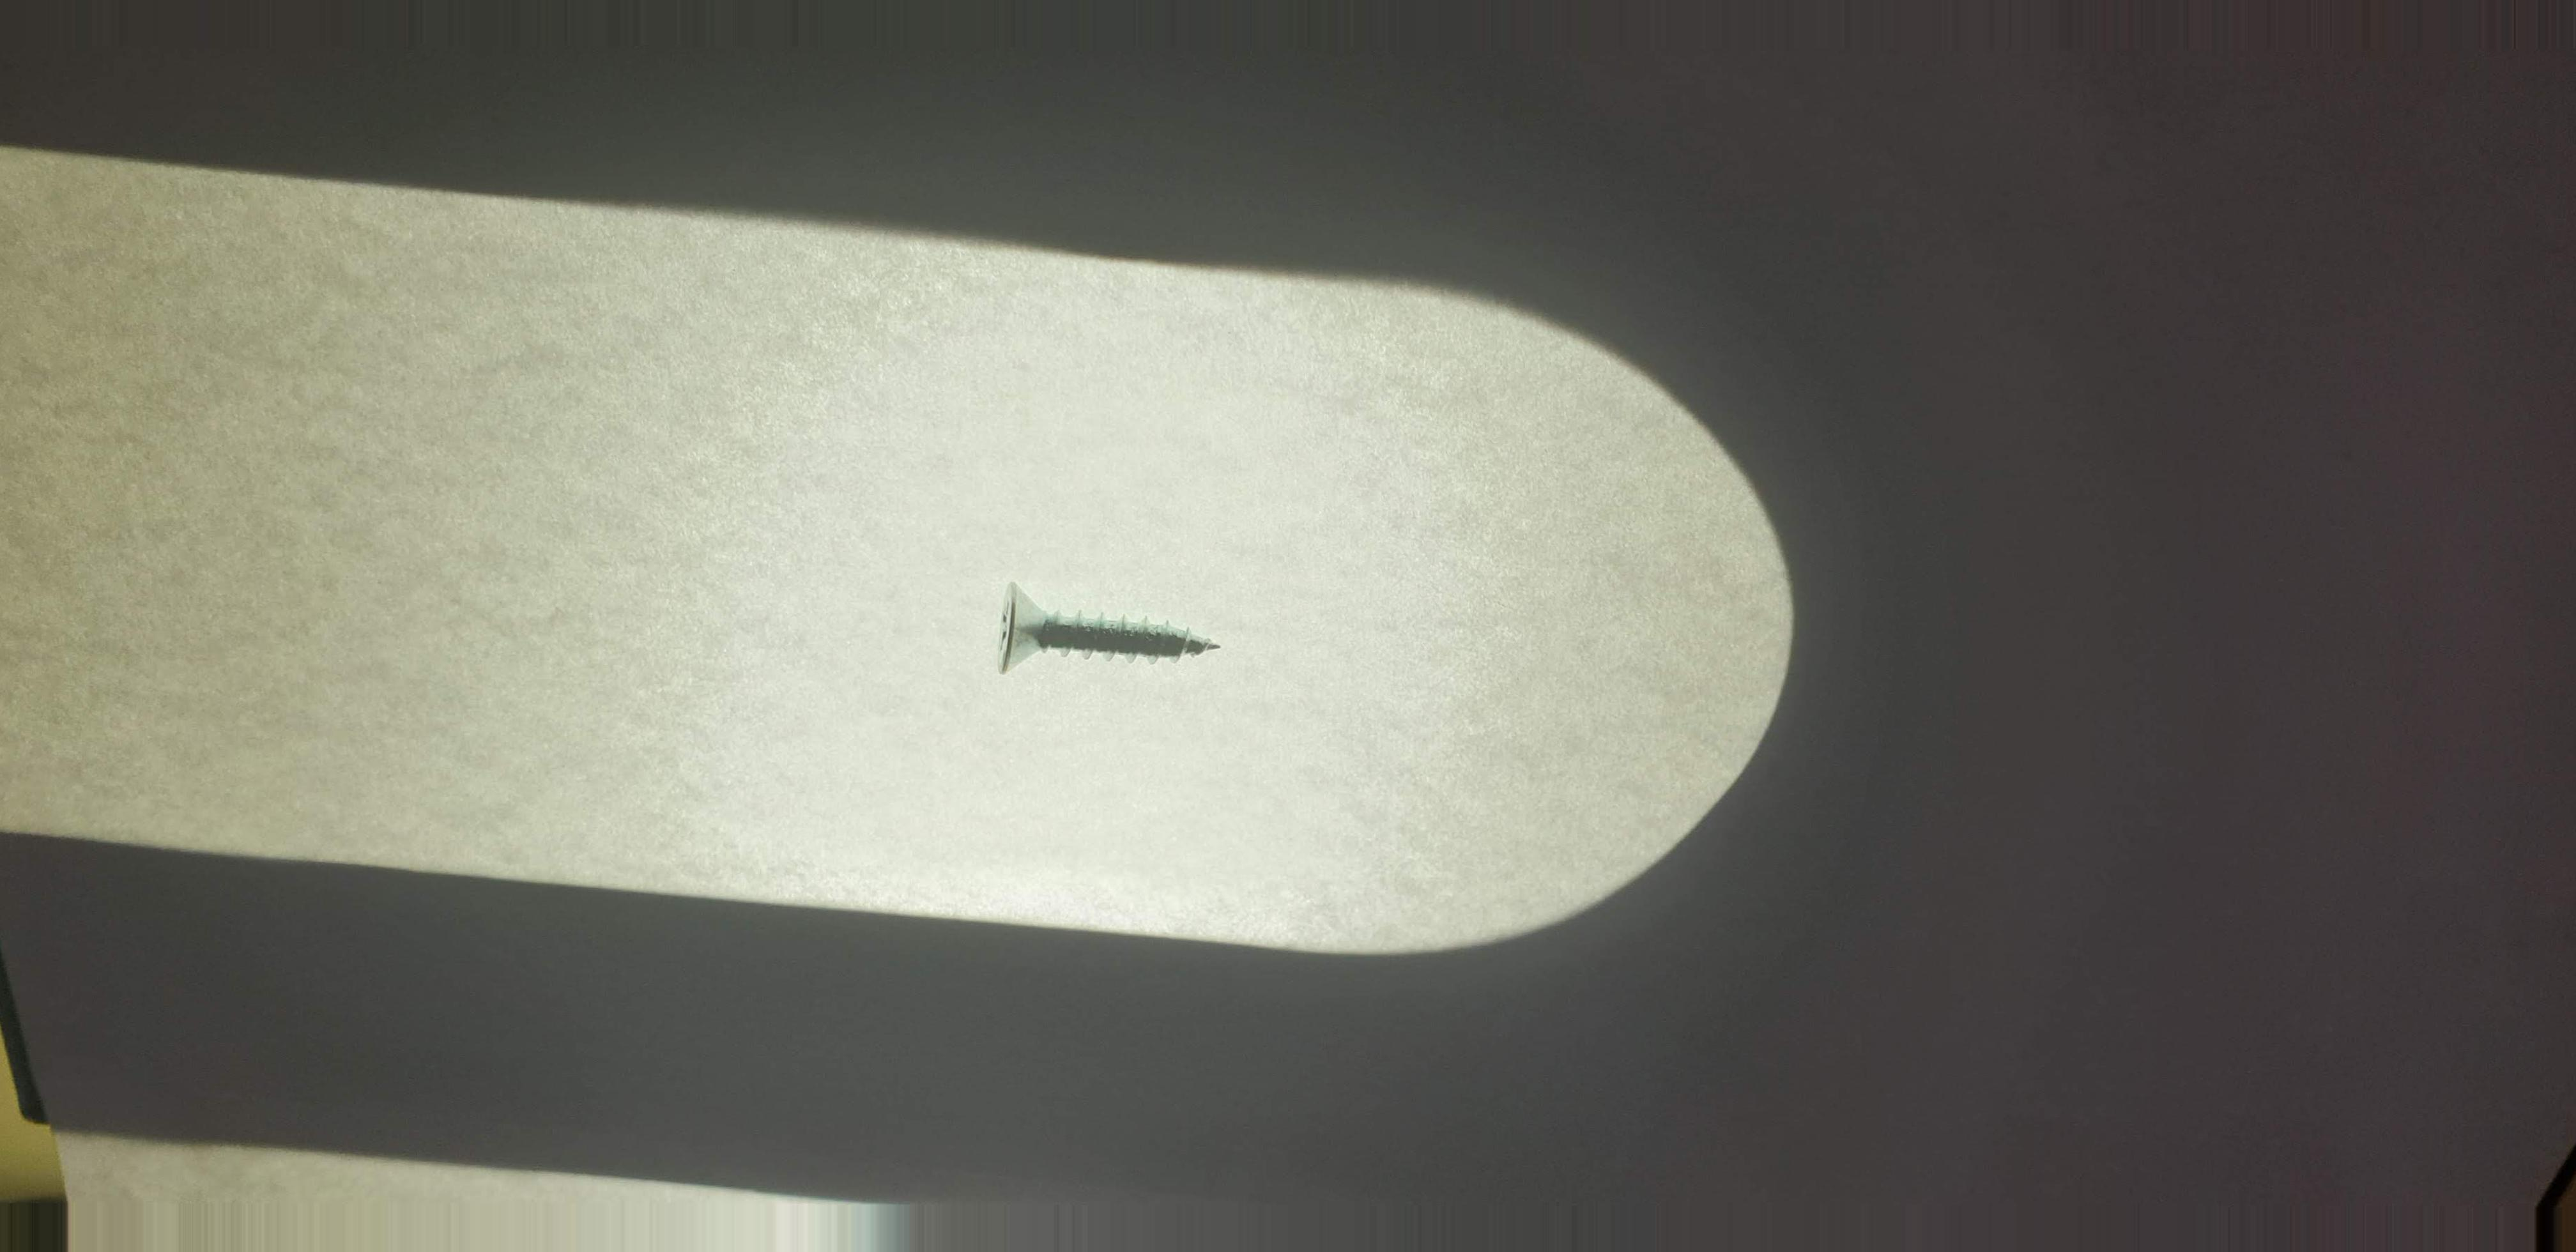S003: (956, 565, 1249, 710)
